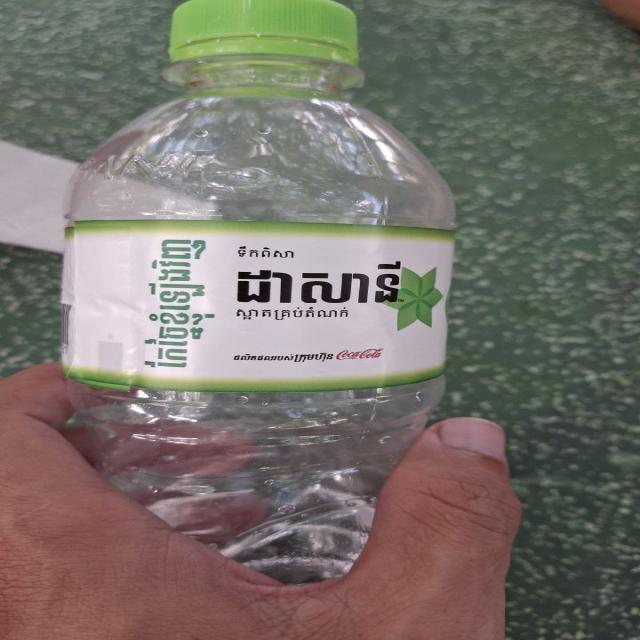Yolov11_80vkh: (226, 250, 415, 336), (125, 233, 226, 380), (228, 348, 339, 367), (234, 242, 306, 264)
